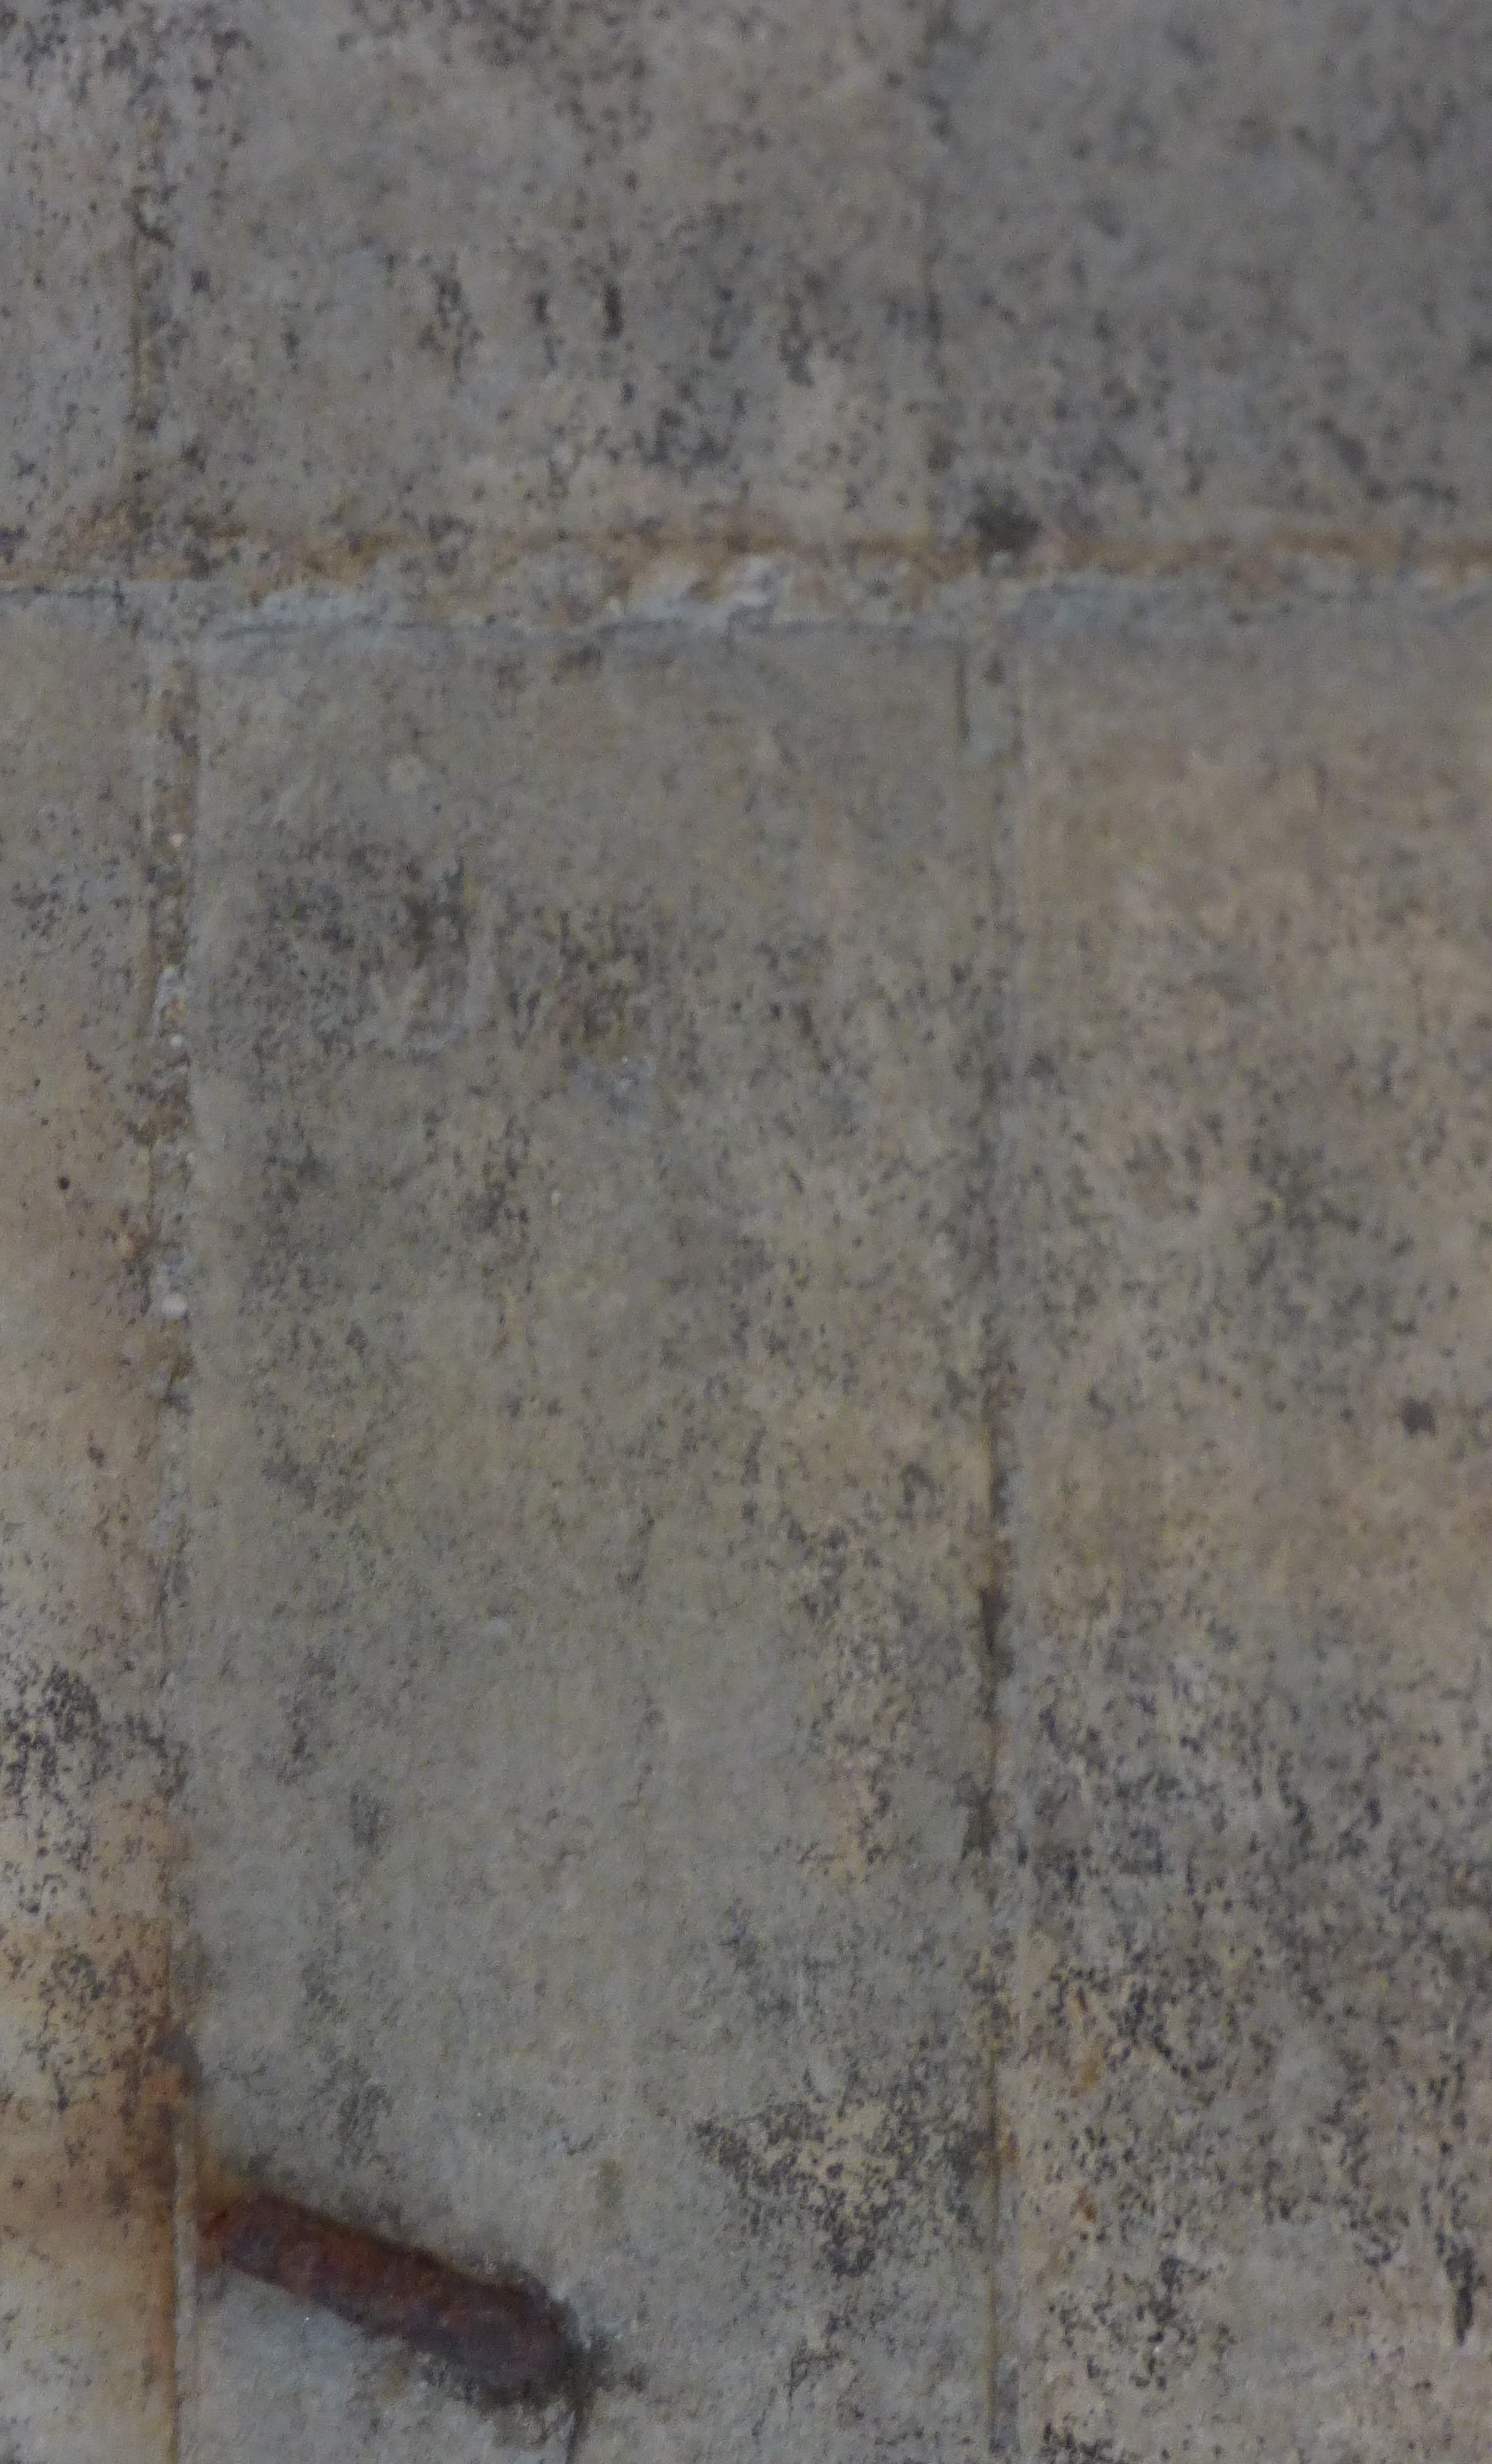Exposed reinforcement: (201, 2191, 562, 2380)
